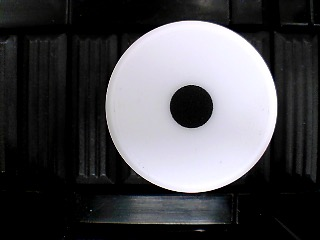BOHO: (104, 19, 278, 194)
